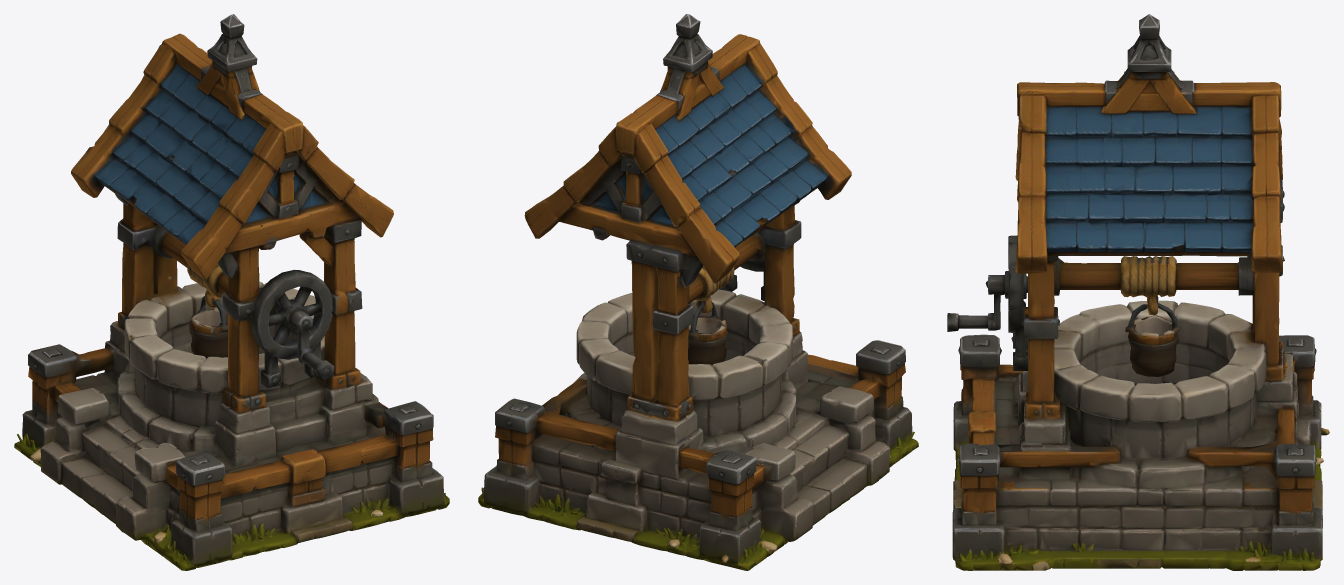
File: well_stage2.glb
The picture shows the model from 3 angles, left to right: view 1: azimuth 30°, elevation 25°; view 2: azimuth 150°, elevation 25°; view 3: azimuth 270°, elevation 25°; orthographic projection. The views are drawn at different scales.
Visible parts, largest first — view 1: tripo_node_12dfc12c-44ef-4d58-ab64-0993dc701f38; view 2: tripo_node_12dfc12c-44ef-4d58-ab64-0993dc701f38; view 3: tripo_node_12dfc12c-44ef-4d58-ab64-0993dc701f38.
Part boxes in pixels (bbox=[...]): tripo_node_12dfc12c-44ef-4d58-ab64-0993dc701f38: bbox=[14, 14, 449, 570]; tripo_node_12dfc12c-44ef-4d58-ab64-0993dc701f38: bbox=[478, 14, 918, 570]; tripo_node_12dfc12c-44ef-4d58-ab64-0993dc701f38: bbox=[947, 14, 1329, 570].
Bounding box in the file's own units: 0.6446 × 1 × 0.7083.
Materials: 1 (1 with a texture image).
